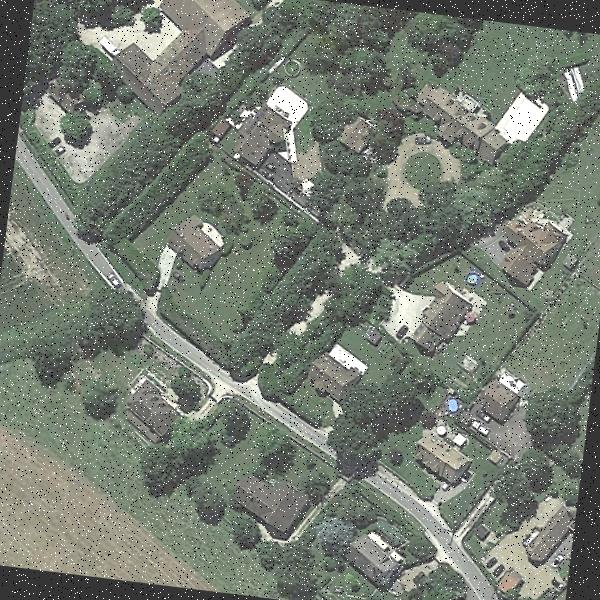Buildings: (421, 96, 511, 158), (499, 214, 572, 290), (162, 0, 247, 63), (410, 286, 477, 359), (225, 100, 288, 172), (116, 52, 186, 105), (237, 482, 311, 532), (351, 531, 412, 589), (125, 394, 182, 445), (416, 440, 466, 488), (532, 508, 572, 564), (312, 357, 366, 396), (173, 230, 218, 262), (482, 382, 524, 416), (342, 122, 373, 152)
